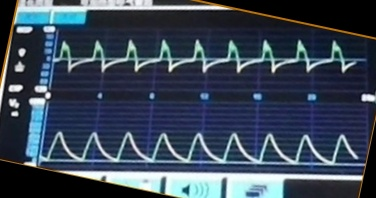Accumulation Flow: (57, 37, 355, 89)
Volume: (47, 117, 357, 171)
